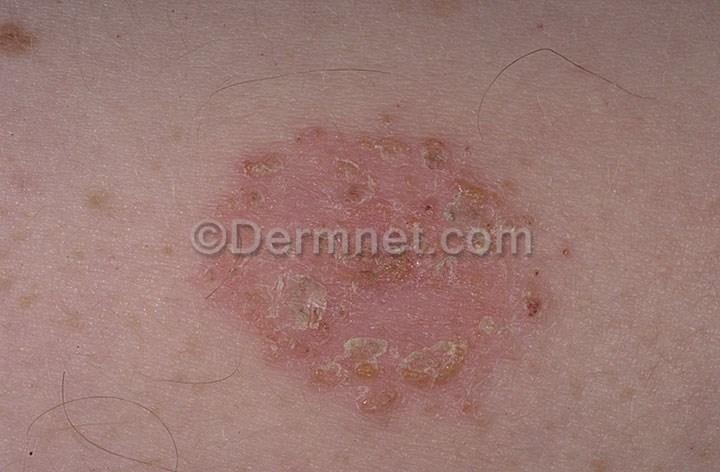Eczema: (220, 145, 535, 425)
